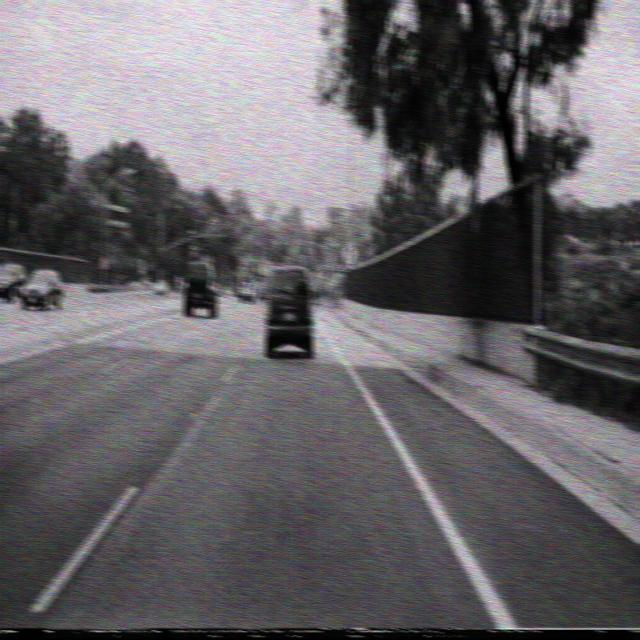pedestrianCrossing: (341, 238, 358, 268)
